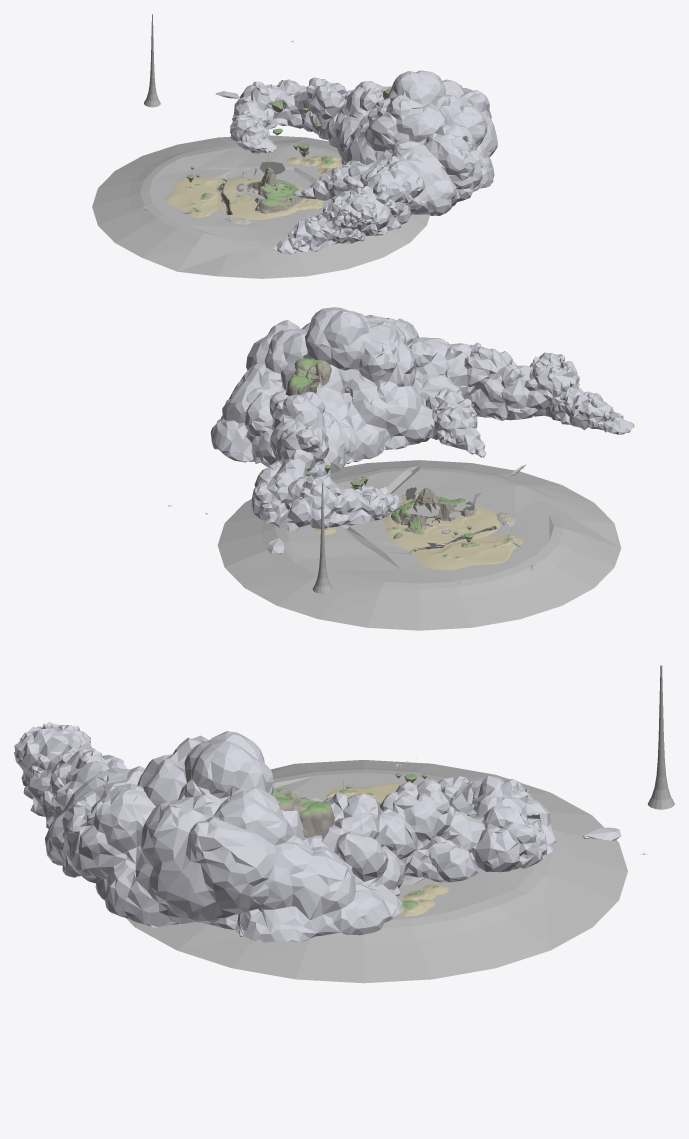
The model's file is BstBaked.glb.
The picture shows the model from 3 angles, top to bottom: view 1: azimuth 30°, elevation 25°; view 2: azimuth 150°, elevation 25°; view 3: azimuth 270°, elevation 25°; orthographic projection. The views are drawn at different scales.
Visible parts, largest first — view 1: BstBaked_cloud, BstBaked_PrairieIslandWaterFloor_02, BstBaked_terrain, BstBaked_GodLightTemple; view 2: BstBaked_cloud, BstBaked_PrairieIslandWaterFloor_02, BstBaked_terrain, BstBaked_GodLightTemple; view 3: BstBaked_cloud, BstBaked_PrairieIslandWaterFloor_02, BstBaked_terrain, BstBaked_GodLightTemple.
Part boxes in pixels (left/top/right/bottom): BstBaked_cloud: left=215, top=70, right=497, bottom=254; BstBaked_PrairieIslandWaterFloor_02: left=92, top=135, right=429, bottom=278; BstBaked_terrain: left=165, top=88, right=391, bottom=221; BstBaked_GodLightTemple: left=144, top=14, right=160, bottom=107; BstBaked_cloud: left=210, top=307, right=634, bottom=554; BstBaked_PrairieIslandWaterFloor_02: left=217, top=460, right=621, bottom=630; BstBaked_terrain: left=286, top=358, right=523, bottom=569; BstBaked_GodLightTemple: left=312, top=483, right=332, bottom=593; BstBaked_cloud: left=14, top=722, right=621, bottom=942; BstBaked_PrairieIslandWaterFloor_02: left=126, top=760, right=627, bottom=983; BstBaked_terrain: left=272, top=773, right=475, bottom=916; BstBaked_GodLightTemple: left=648, top=665, right=674, bottom=809.
Bounding box in the file's own units: 2419 × 608 × 1485.
